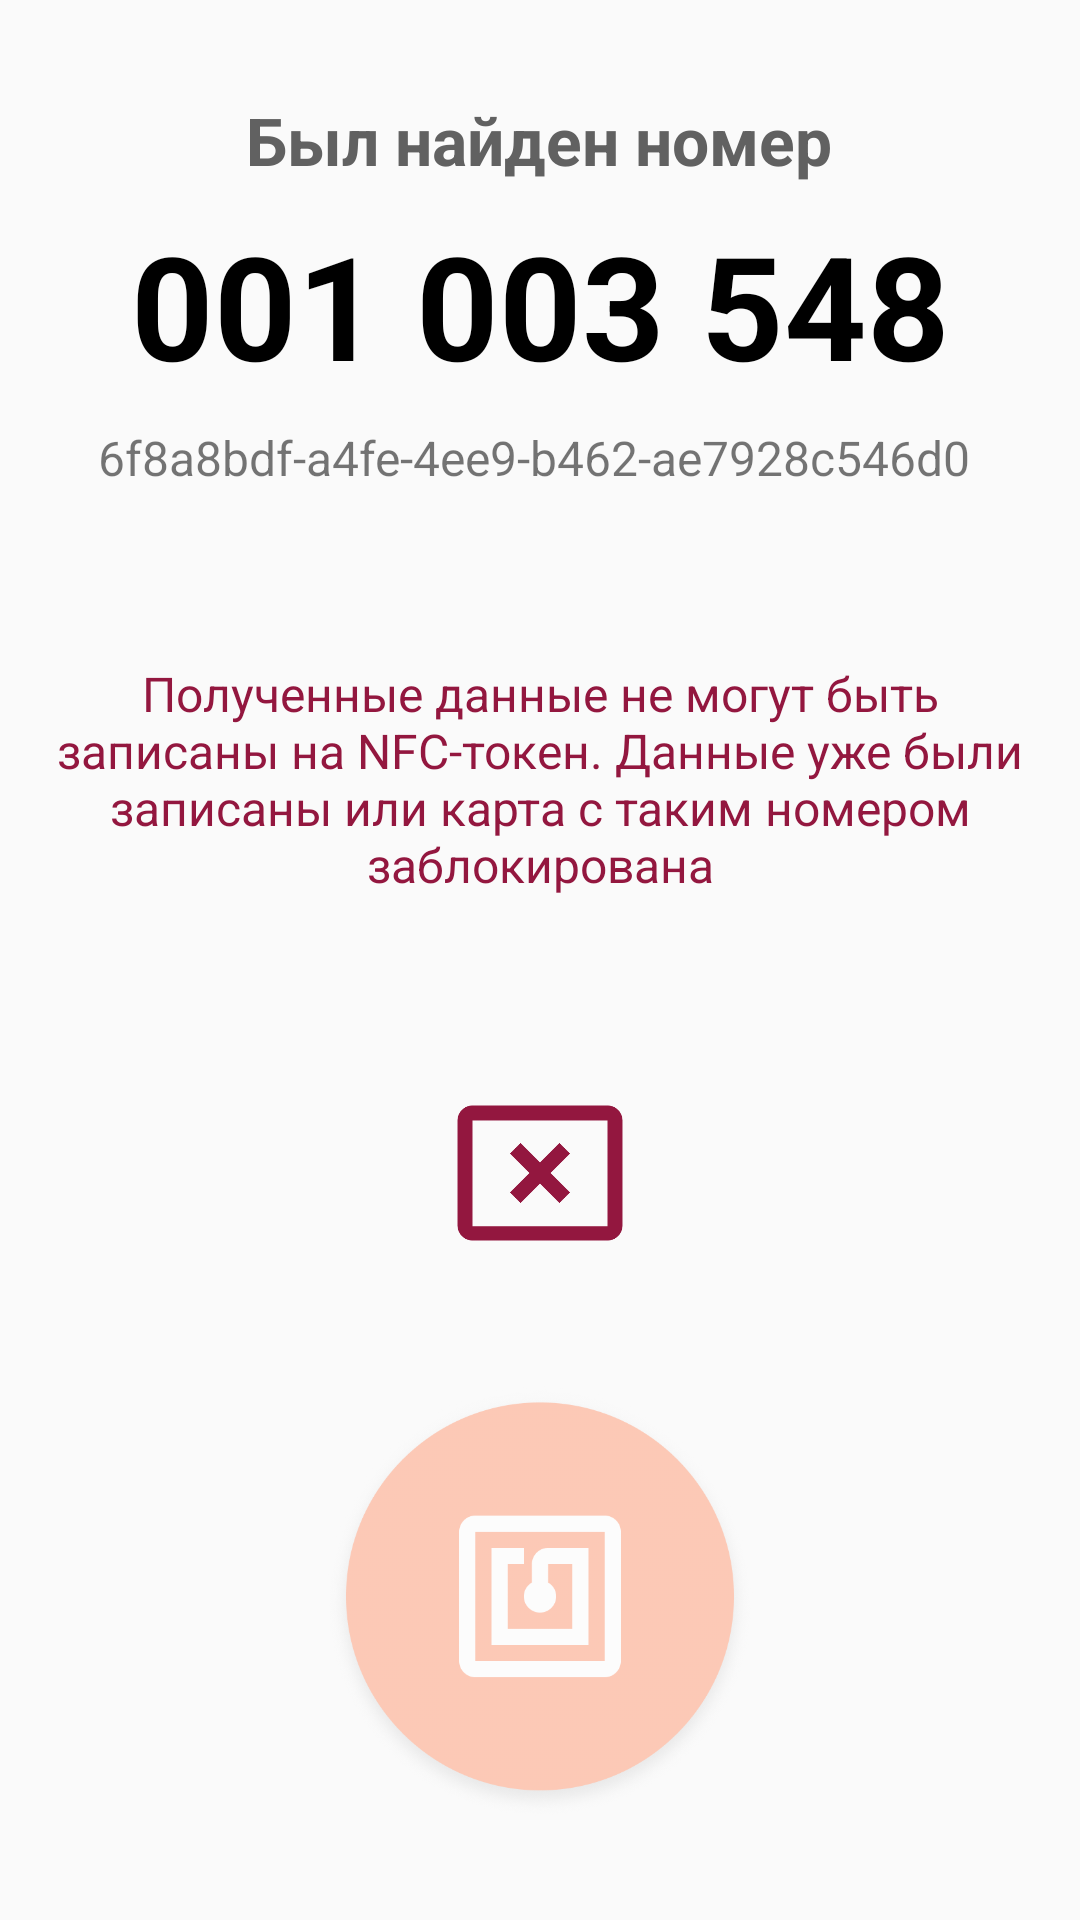

Icons on this 1080x1920 Android screen, each with its box as bbox(x1, y1, x2, y2):
cancel: bbox(457, 1105, 623, 1241)
